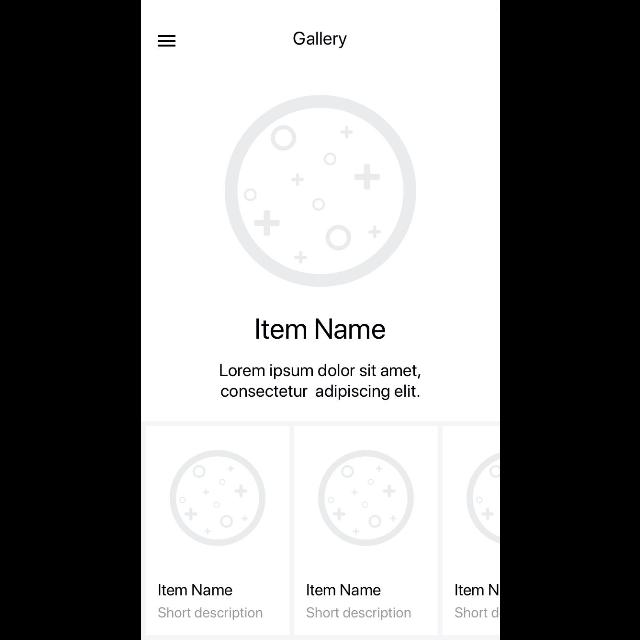icon: (157, 35, 175, 47)
image: (225, 96, 418, 286), (318, 450, 414, 546), (170, 451, 264, 545), (466, 451, 500, 547)
text: (220, 364, 420, 400), (256, 318, 384, 339), (157, 607, 263, 619), (306, 608, 410, 620), (158, 583, 232, 595), (306, 584, 380, 596), (292, 32, 346, 48), (454, 606, 500, 618), (456, 584, 500, 594)
